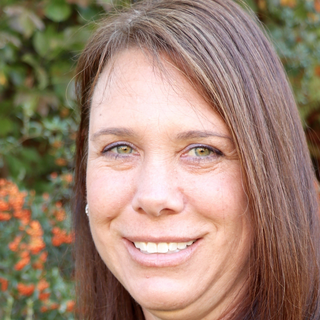eye: (177, 140, 228, 163), (96, 138, 143, 161)
